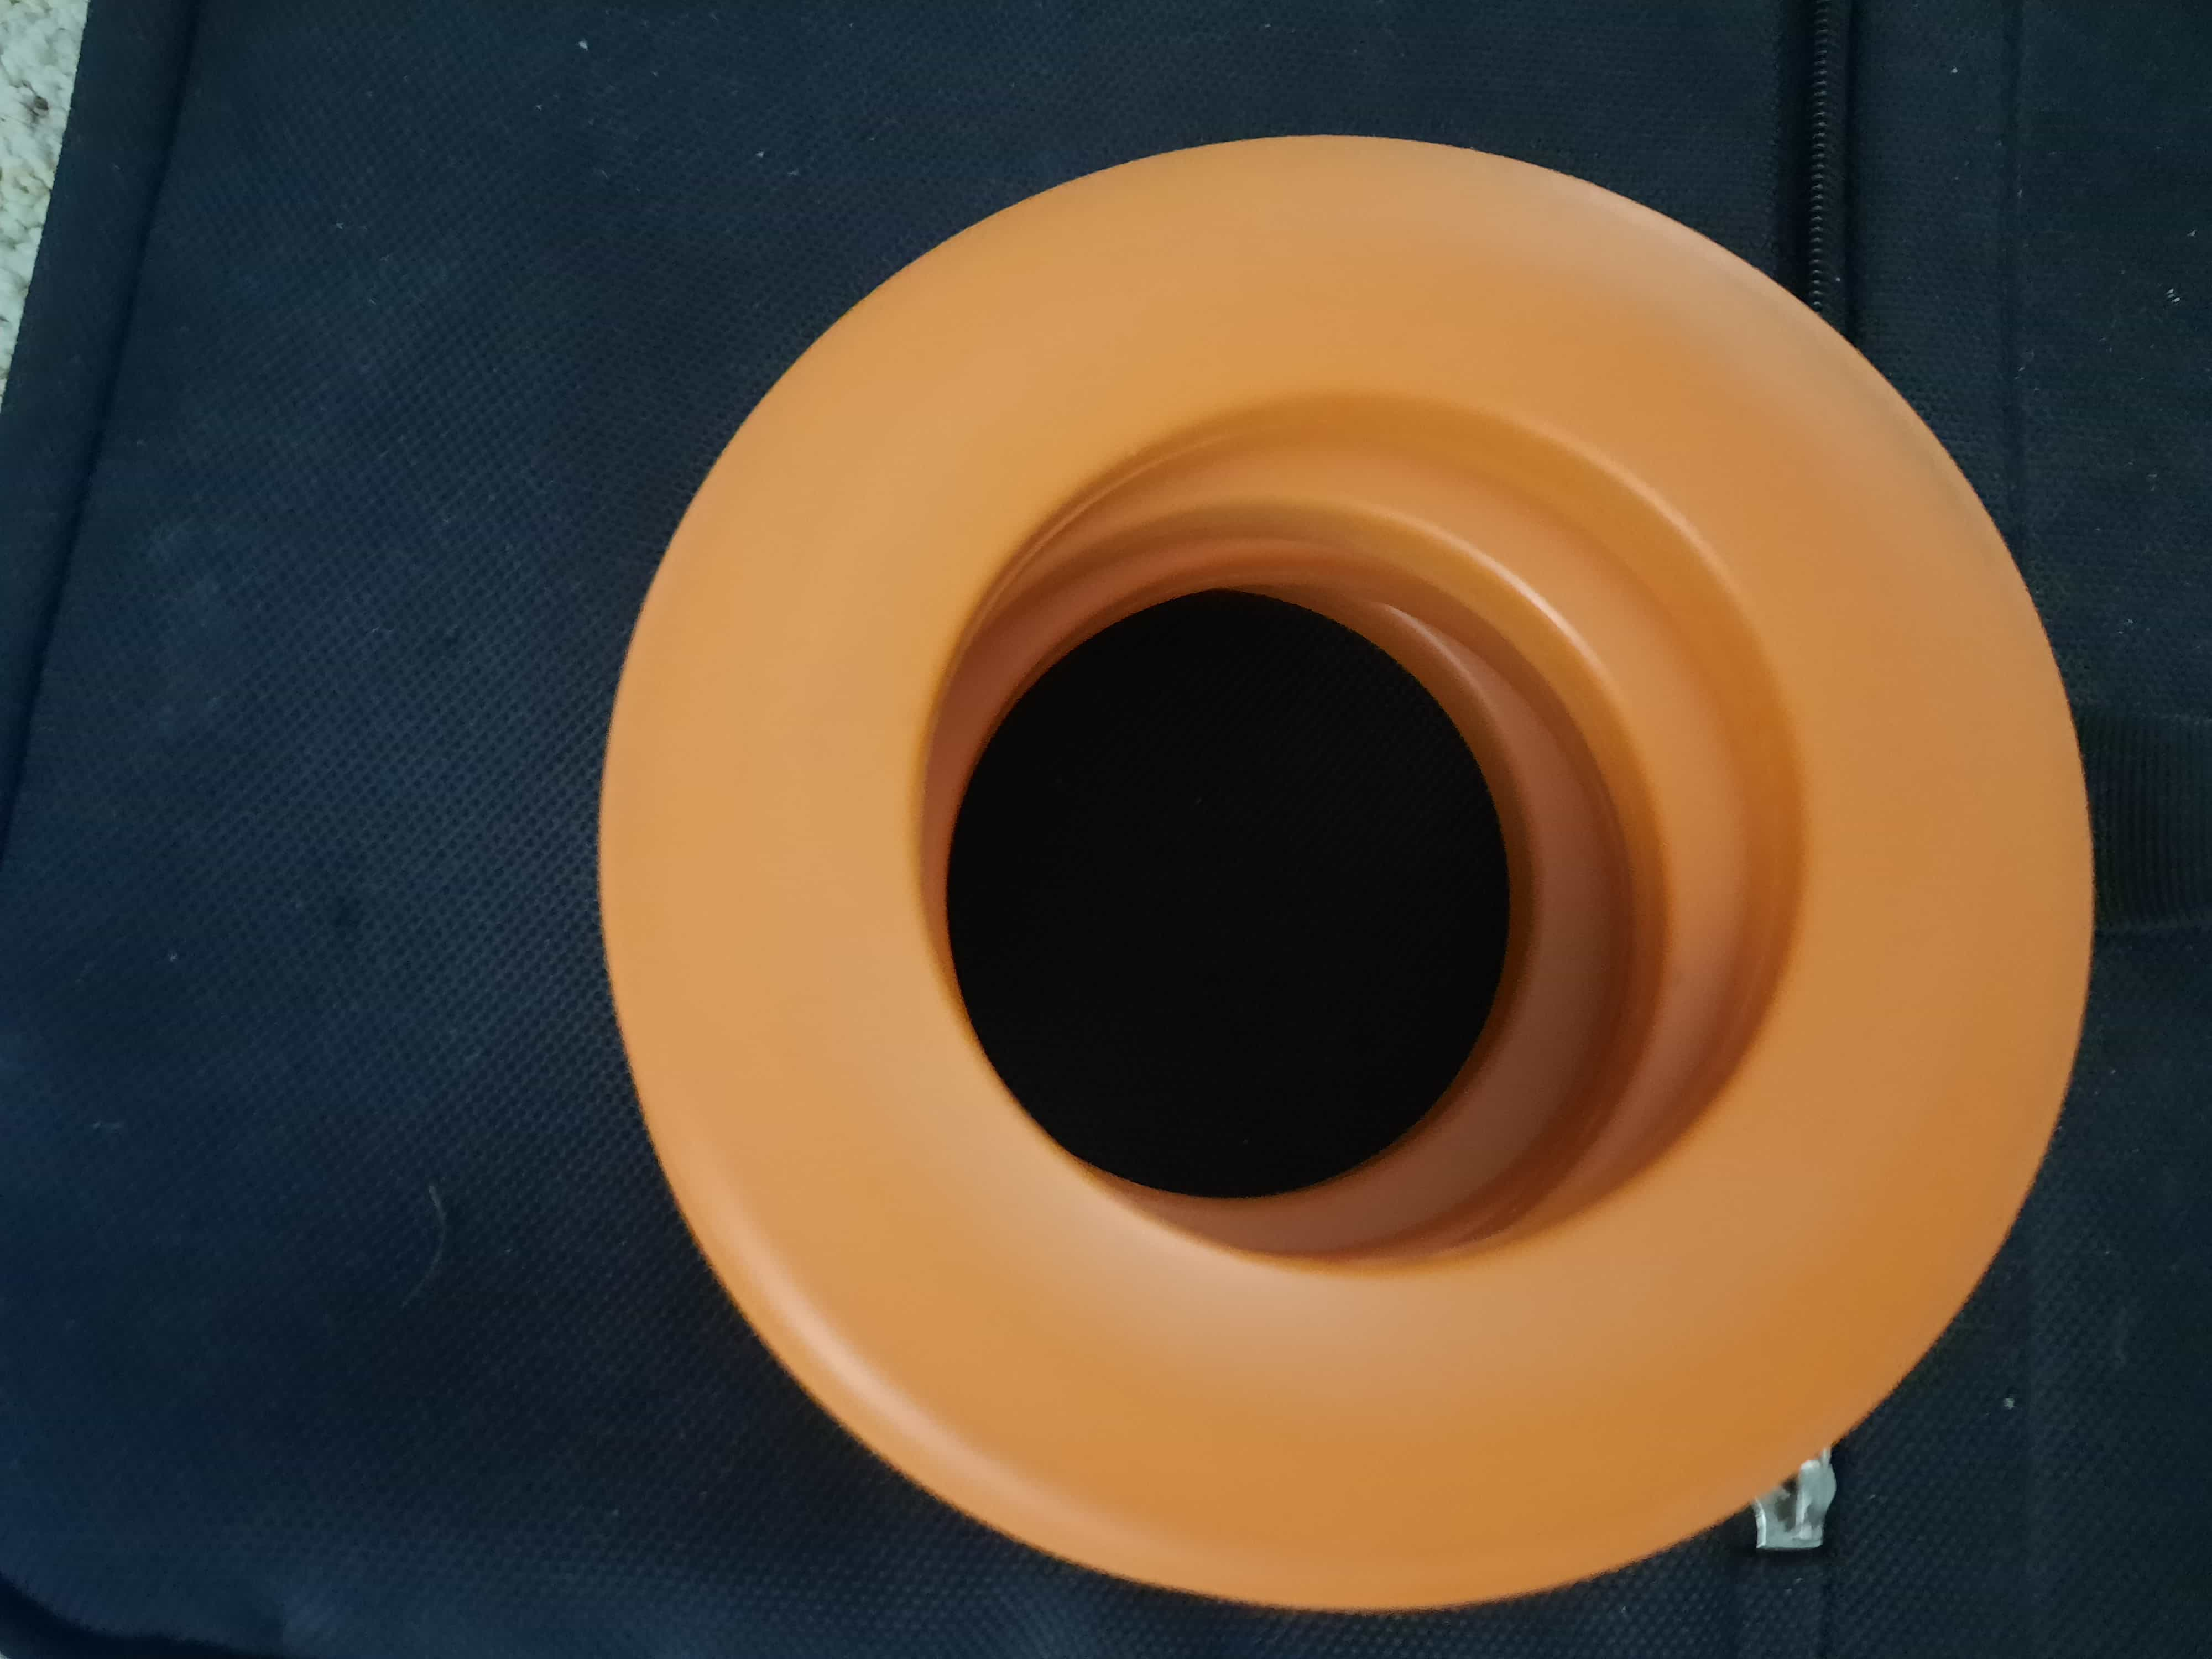FourStack: (583, 141, 2097, 1596)
